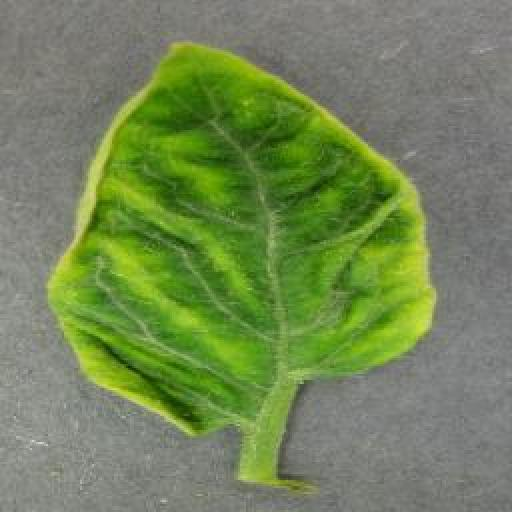Yellow Leaf Curl Virus: (46, 39, 436, 436)
